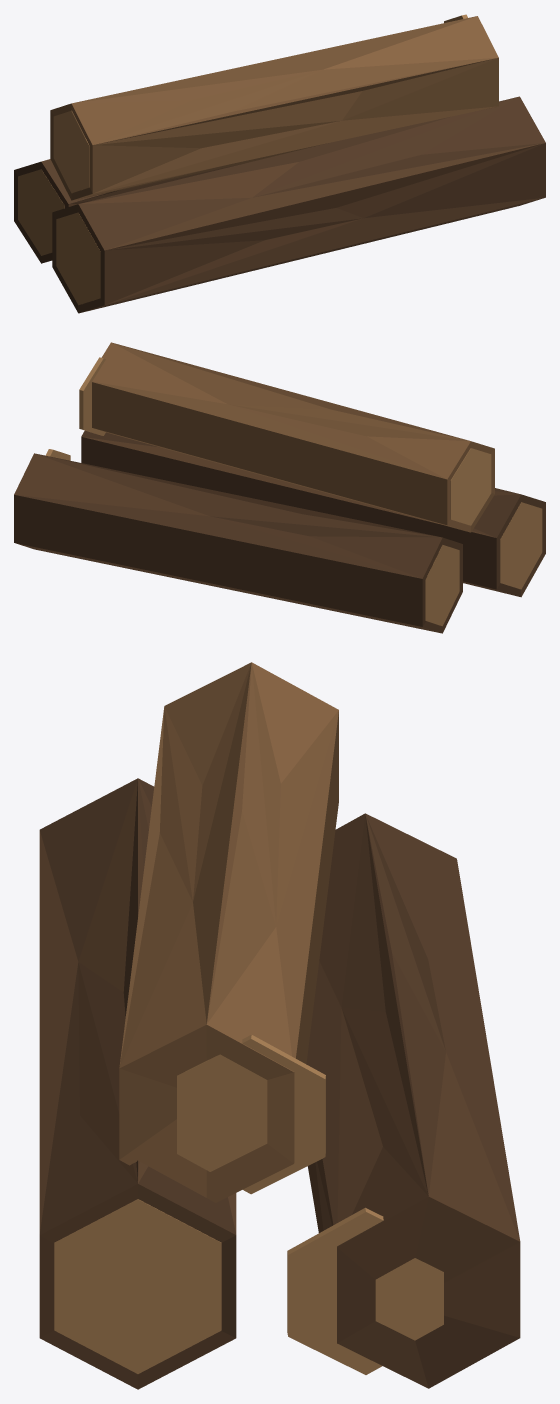
The model's file is fuel_firewood_polenya_idle.glb.
The picture shows the model from 3 angles, top to bottom: view 1: azimuth 30°, elevation 25°; view 2: azimuth 150°, elevation 25°; view 3: azimuth 270°, elevation 25°; orthographic projection. The views are drawn at different scales.
Parts seen in each view (by area): view 1: fuel_firewood_polenya_idle; view 2: fuel_firewood_polenya_idle; view 3: fuel_firewood_polenya_idle.
Part boxes in pixels (box(x1,y1,x2,y2)): fuel_firewood_polenya_idle: box(14, 14, 545, 313); fuel_firewood_polenya_idle: box(14, 342, 545, 633); fuel_firewood_polenya_idle: box(39, 662, 520, 1389).
Size of the model in its own units: 0.3821 by 0.15 by 0.1904.
Materials: 1 (1 with a texture image).
